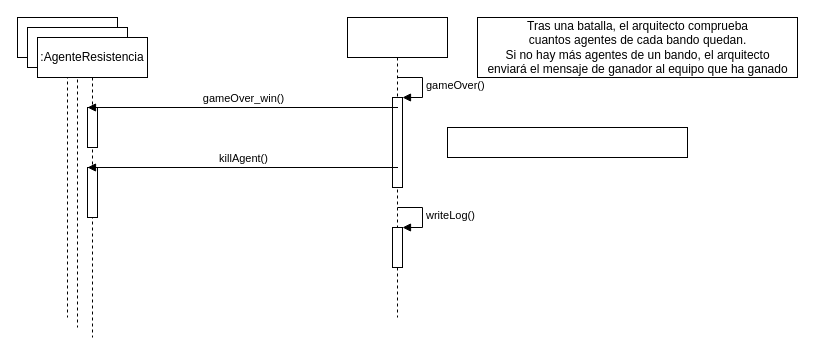
The diagram is 815 pixels wide and 355 high, and some of its shapes have lost their labels. The centre of each missing label's shape, as x and y in pixels:
":AgenteArquitecto" goes at point 397,167.
"El arquitecto elimina los agentes restantes (y a los JoePublic si los hubiera)" goes at point 567,142.
